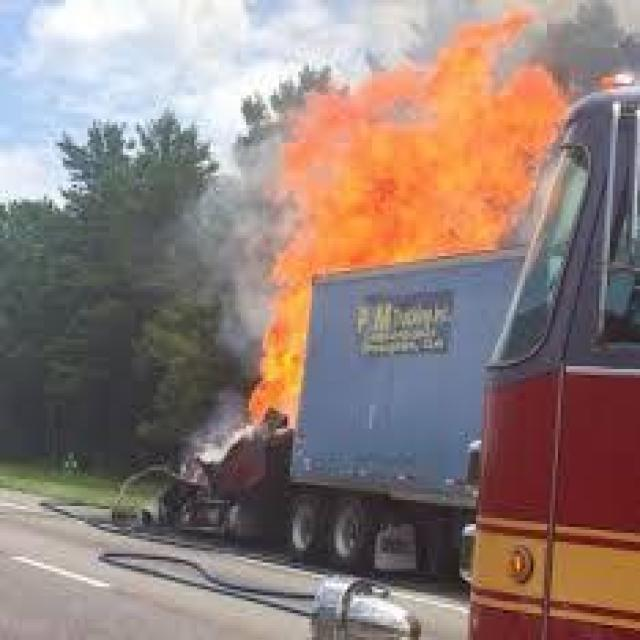fire: (278, 62, 535, 257), (249, 254, 315, 435), (452, 15, 634, 80)
